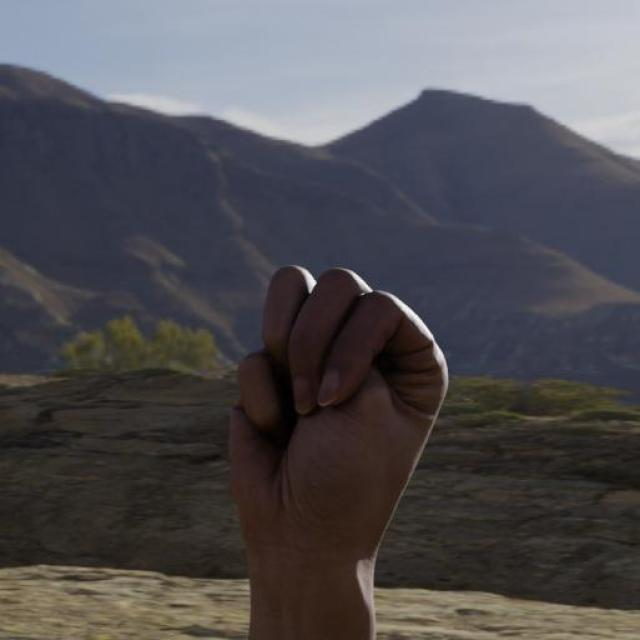M: (223, 263, 453, 559)
